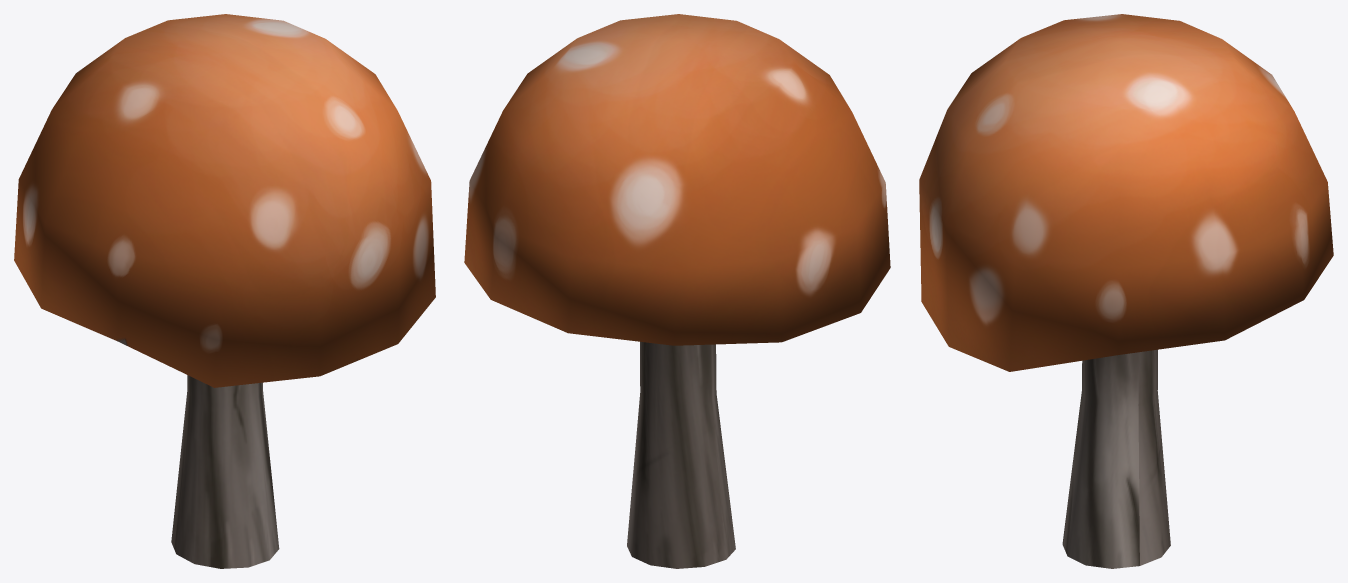
File: mushroom01_one.FBX
3 renders of one model, left to right at view 1: azimuth 30°, elevation 25°; view 2: azimuth 150°, elevation 25°; view 3: azimuth 270°, elevation 25°, orthographic.
Visible parts, largest first — view 1: Object002; view 2: Object002; view 3: Object002.
Boxes of the visible parts, left/top/right/bottom form: Object002: left=14, top=14, right=435, bottom=568; Object002: left=464, top=14, right=890, bottom=568; Object002: left=919, top=14, right=1333, bottom=568.
Size of the model in its own units: 8.77 by 11.54 by 8.58.
Materials: 1 (1 with a texture image).
